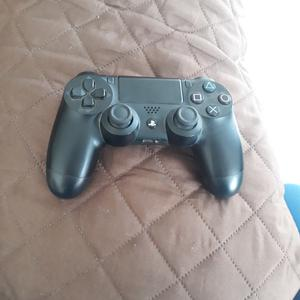controller: (47, 72, 243, 197)
